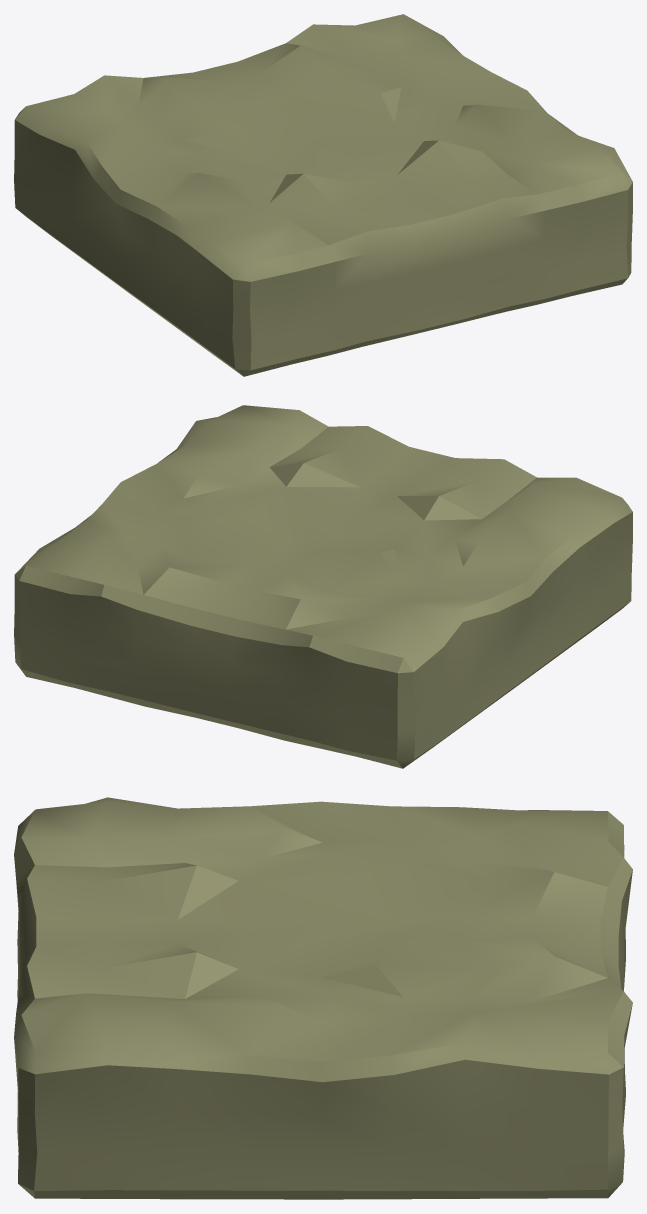
The model's file is Hedge_2x2.fbx.
3 renders of one model, top to bottom at view 1: azimuth 30°, elevation 25°; view 2: azimuth 150°, elevation 25°; view 3: azimuth 270°, elevation 25°, orthographic. The views are drawn at different scales.
Visible parts, largest first — view 1: Hedge_2x2; view 2: Hedge_2x2; view 3: Hedge_2x2.
Boxes of the visible parts, x1,y1,x2,y2 form: Hedge_2x2: (14, 14, 632, 376); Hedge_2x2: (14, 405, 632, 768); Hedge_2x2: (14, 797, 632, 1199).
Bounding box in the file's own units: 1.98 × 1.93 × 0.588.
